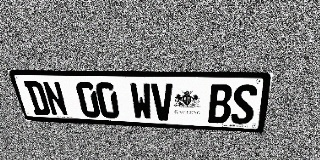0: (94, 82, 120, 119), (75, 82, 101, 118)
B: (208, 84, 233, 124)
D: (23, 81, 51, 116)
N: (41, 81, 69, 116)
S: (230, 84, 258, 125)
V: (151, 83, 174, 121)
W: (129, 82, 153, 120)
